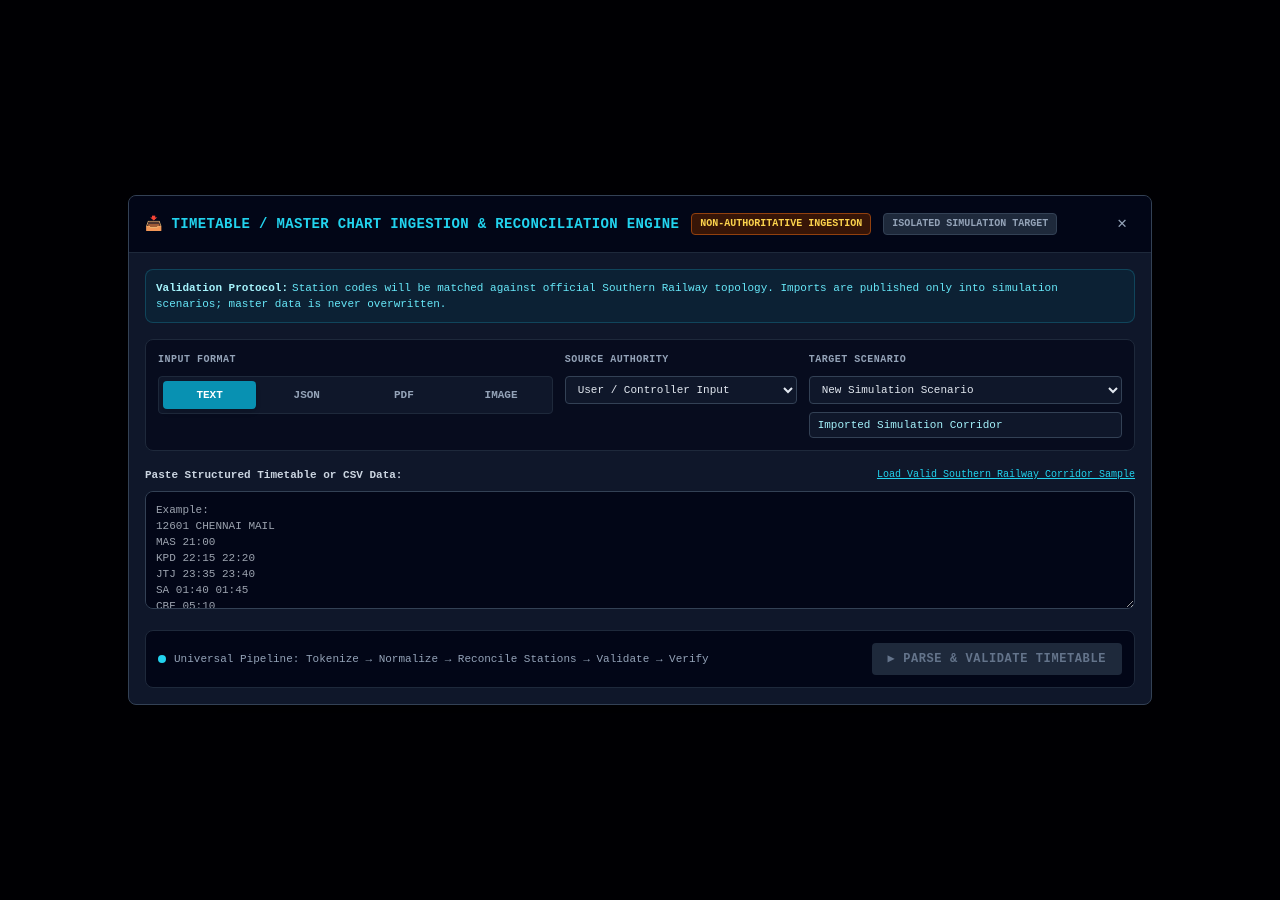
Phase 7A: Real Timetable Import Engine & Pipeline › 7. ImportModal UI Component › allows tab switching and updates prompt label accordingly
The width and height of the screenshot is (1280, 900).
Step 1. Click the button "JSON" → [307, 395], box [260,381,353,409]
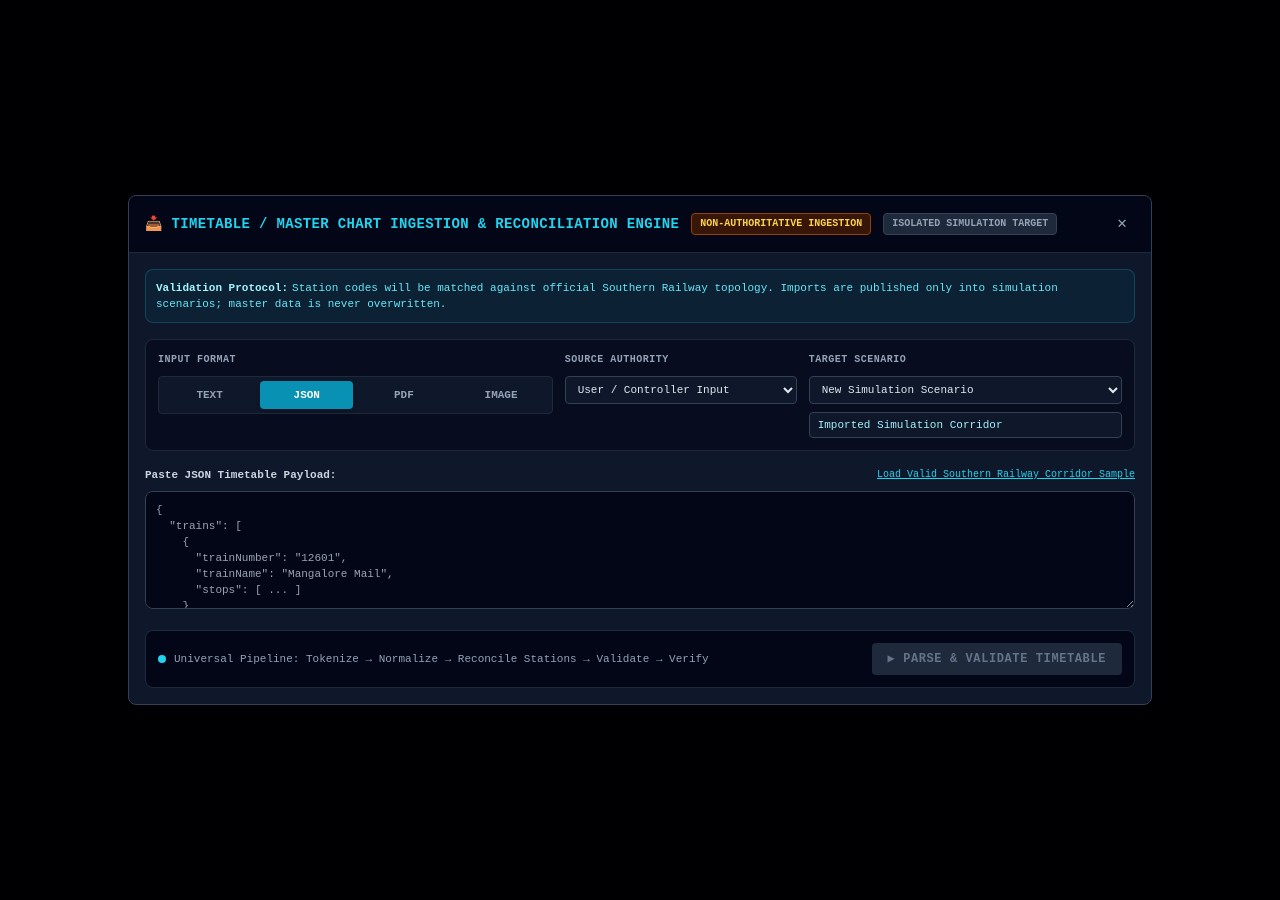
expect the text "Paste JSON Timetable Payload:" is shown: met, box [145,467,336,483]
Step 2. Click the button "PDF" → [404, 395], box [357,381,450,409]
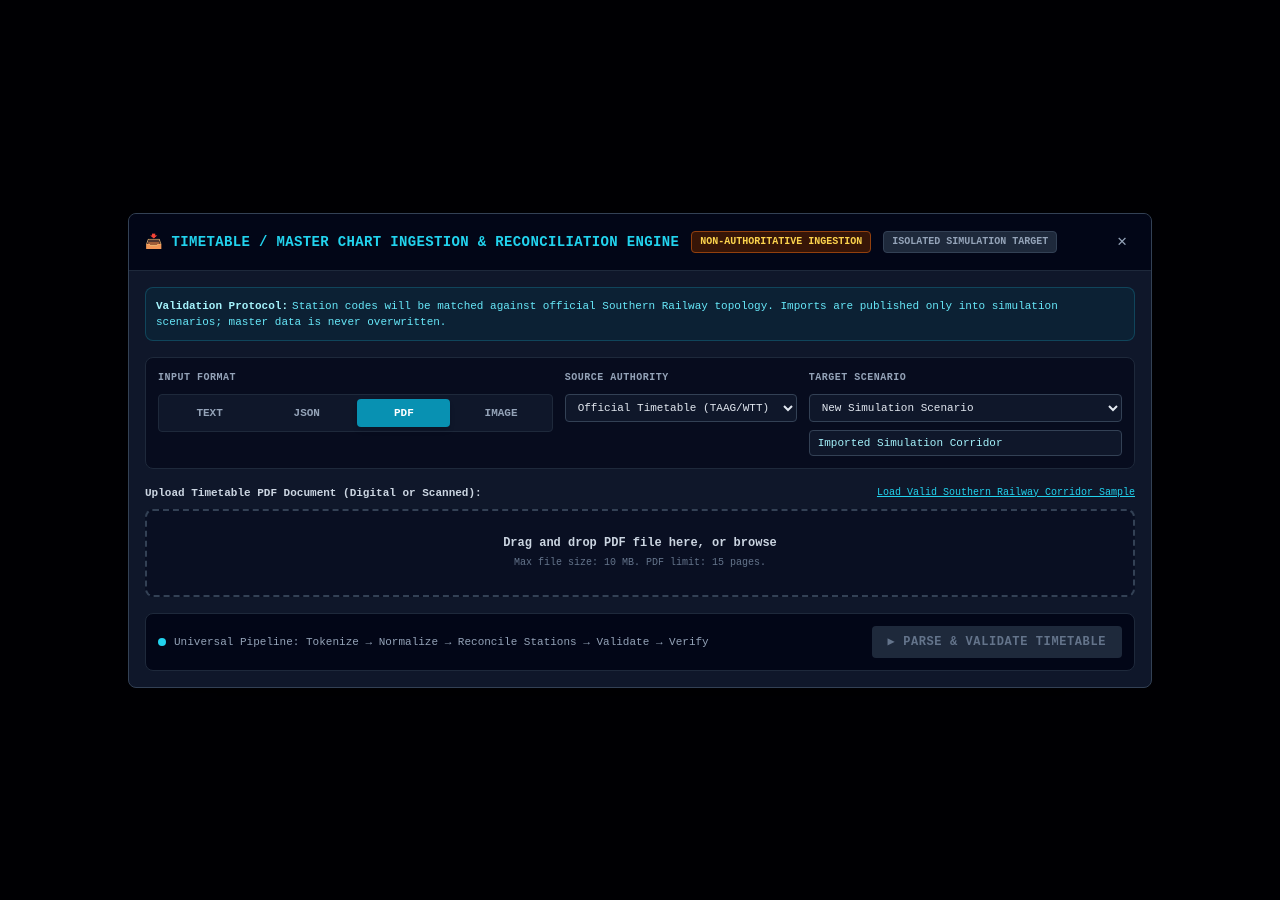
expect the text "Upload Timetable PDF Document (Digital or Scanned):" is shown: met, box [145,484,482,500]
